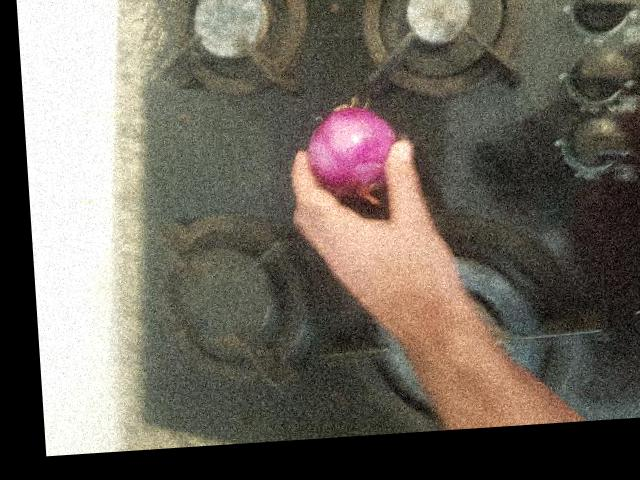onion: (179, 59, 279, 170)
